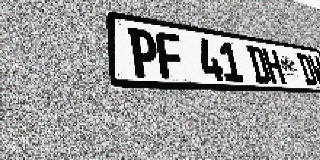1: (216, 41, 244, 82)
4: (196, 38, 225, 81)
D: (246, 45, 272, 84), (296, 53, 318, 86)
F: (155, 31, 187, 80)
H: (262, 48, 286, 84)
P: (127, 27, 160, 78)
W: (307, 55, 320, 86)
